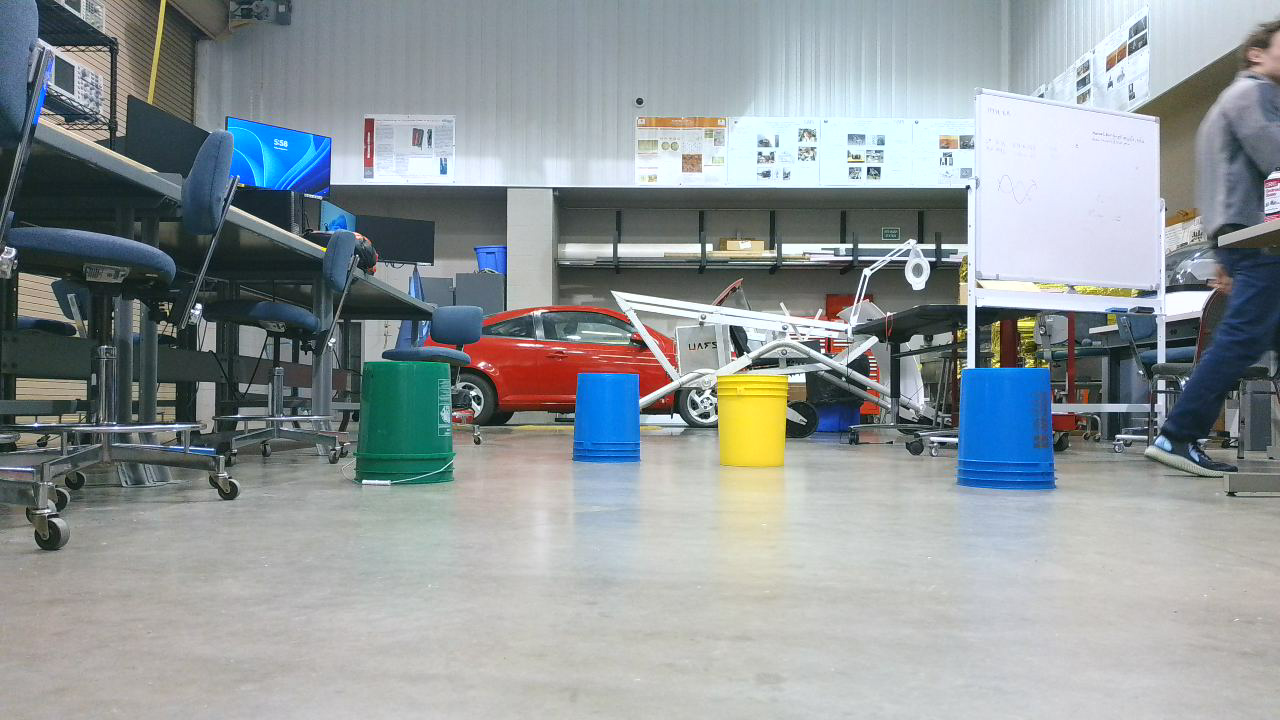blue_bucket: (952, 367, 1073, 496), (573, 374, 652, 469)
green_bucket_barrier: (350, 359, 466, 492)
yellow_bucket: (712, 376, 798, 479)
